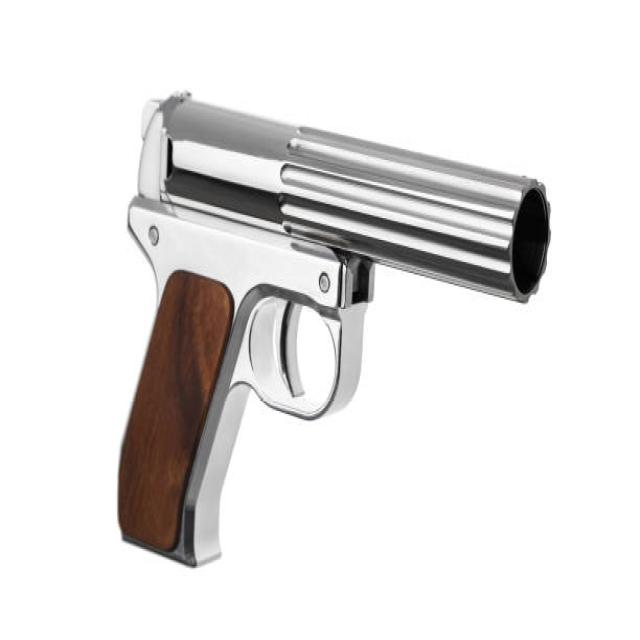pistol: (113, 90, 556, 589)
